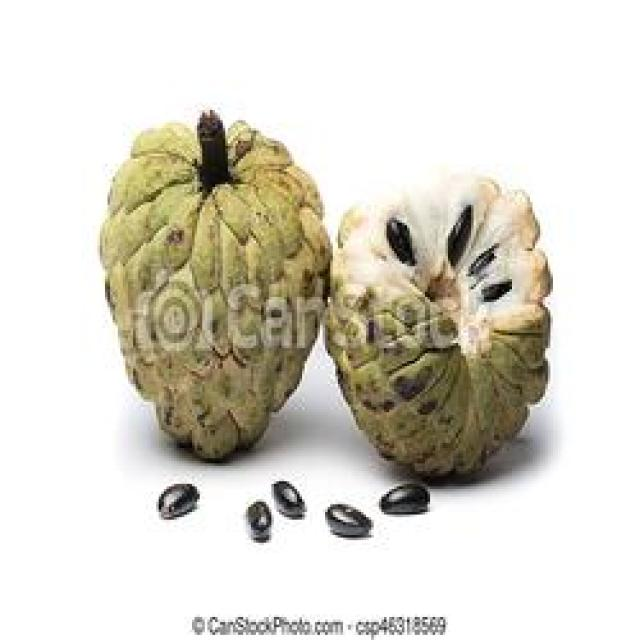apple: (107, 100, 338, 481), (338, 156, 555, 476)
